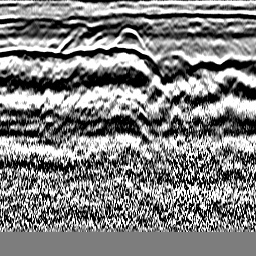cavity: (111, 25, 145, 49)
